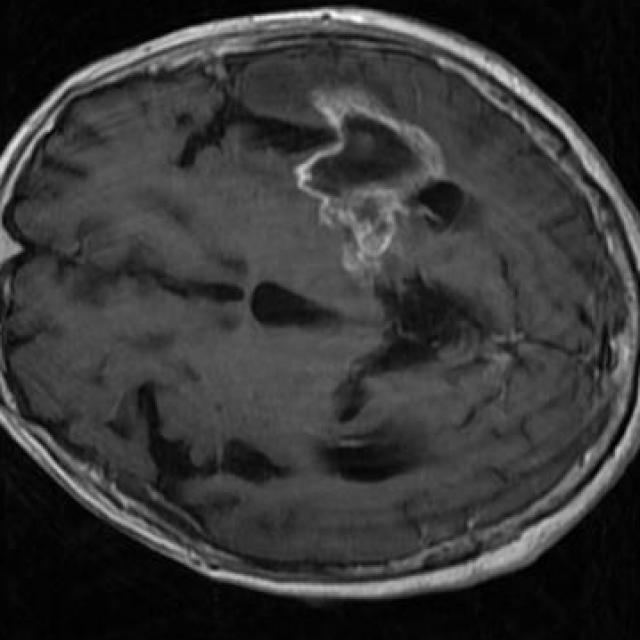glioma: (294, 87, 446, 280)
